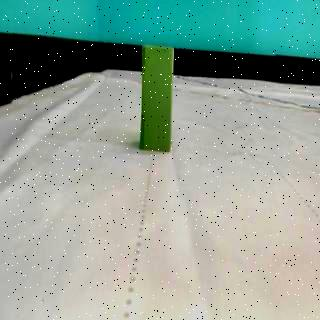greenbox: (139, 43, 176, 154)
